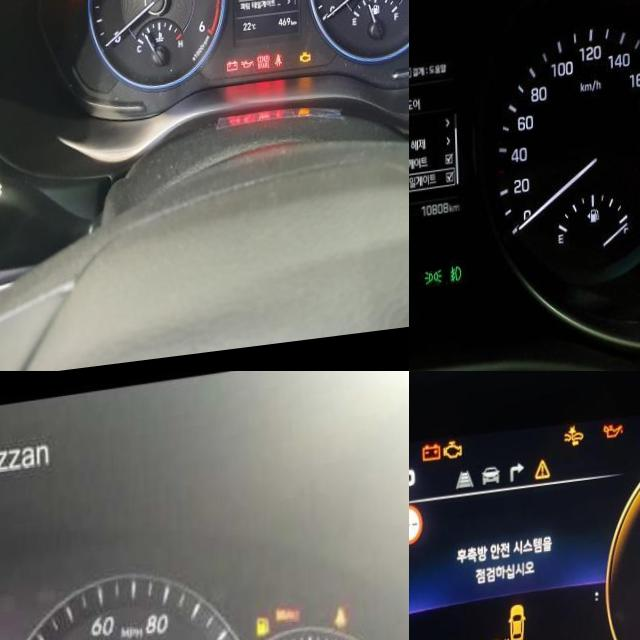Central Warning lamp: (532, 467, 549, 490)
FrontFogLight: (446, 272, 460, 292)
Seat Belt: (331, 618, 346, 640)
SideLamp: (422, 276, 440, 293)
